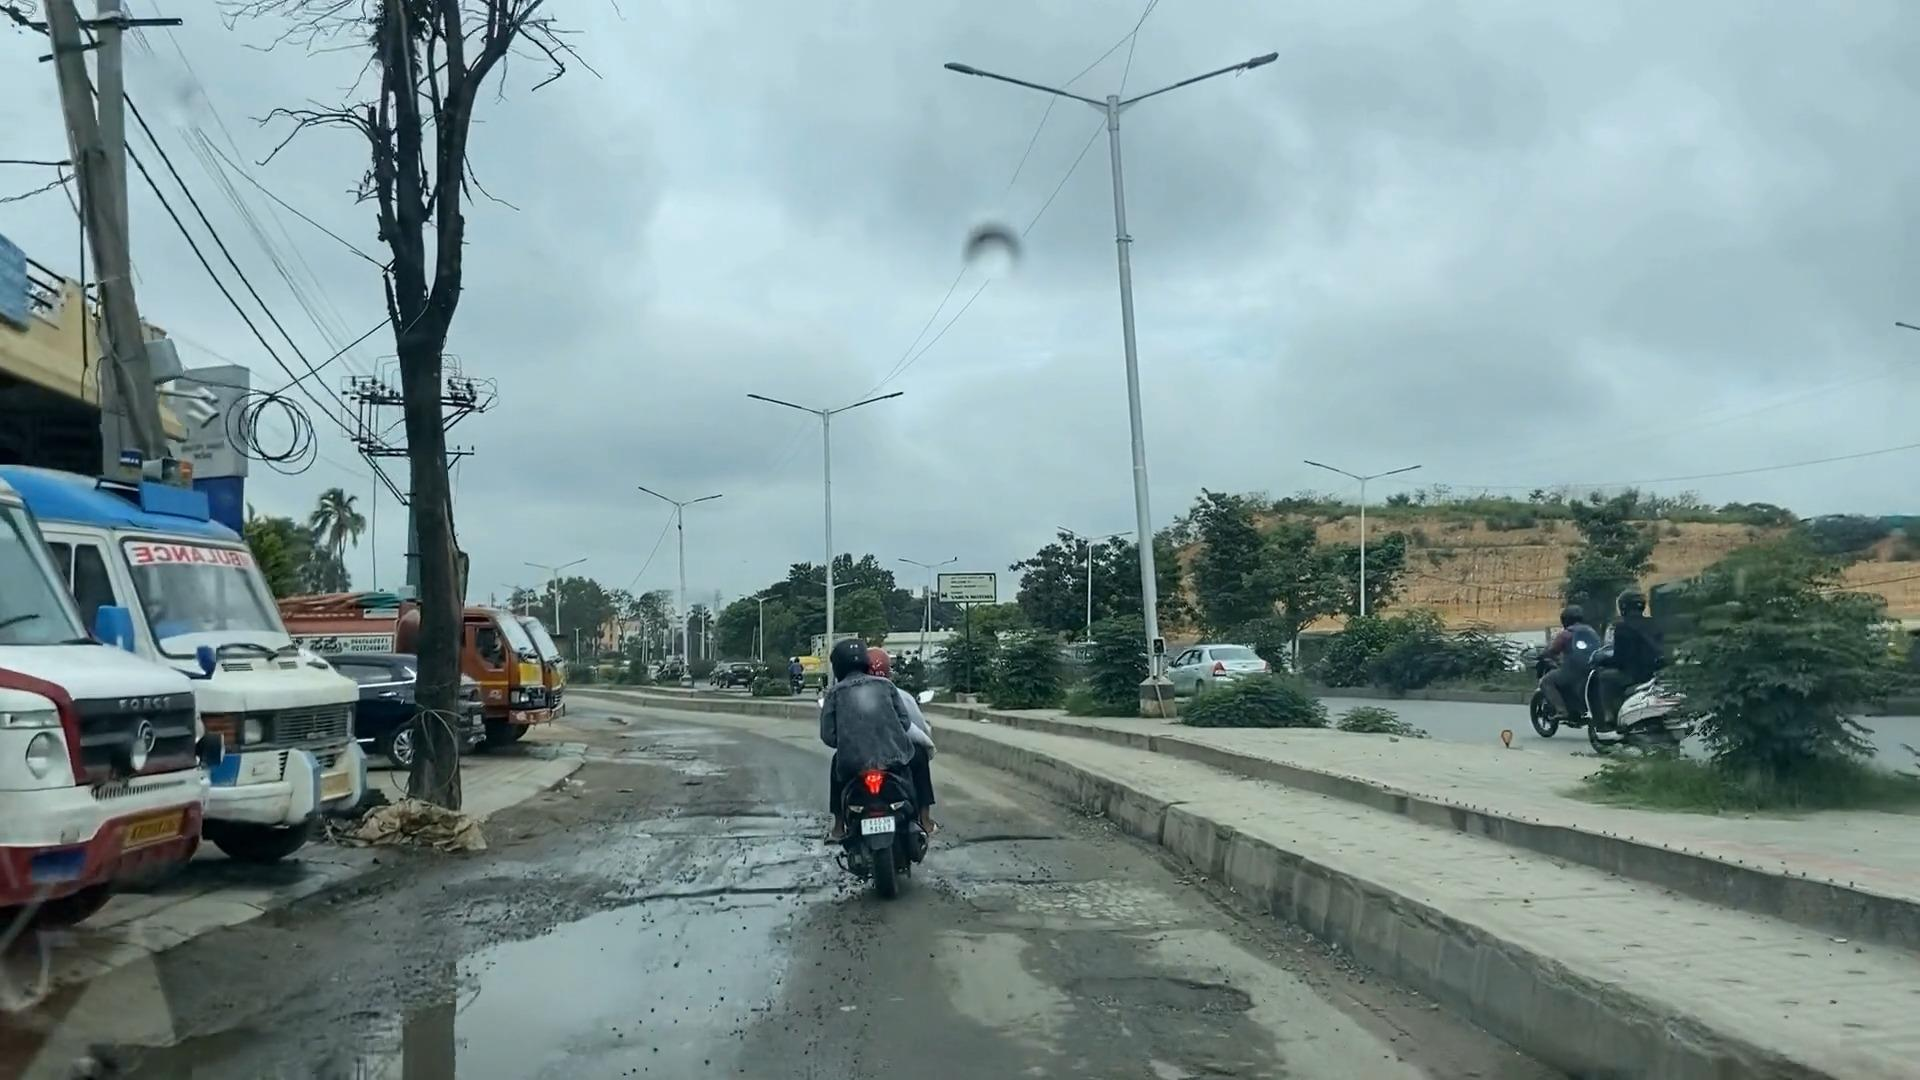LMV: (816, 644, 934, 899)
RoadDamages: (936, 827, 1211, 959), (589, 794, 793, 918), (1067, 956, 1246, 1080)
